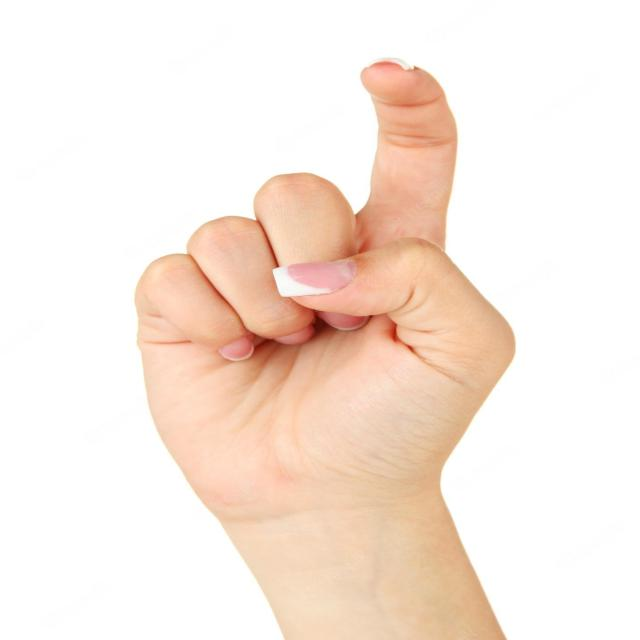X: (127, 54, 521, 537)
